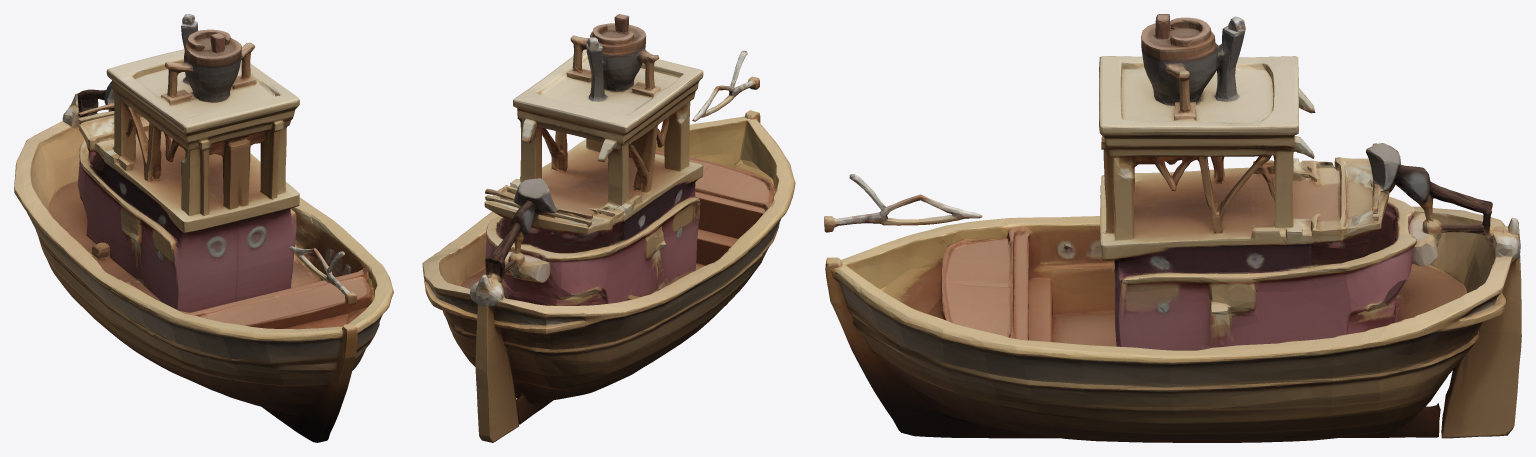
The model's file is ship.glb.
The picture shows the model from 3 angles, left to right: view 1: azimuth 30°, elevation 25°; view 2: azimuth 150°, elevation 25°; view 3: azimuth 270°, elevation 25°; orthographic projection. The views are drawn at different scales.
Visible parts, largest first — view 1: world; view 2: world; view 3: world.
Part boxes in pixels (box(x1,y1,x2,y2)): world: box(14, 14, 393, 442); world: box(422, 14, 795, 442); world: box(824, 14, 1521, 442).
Size of the model in its own units: 0.4922 by 0.6623 by 1.
Materials: 1 (1 with a texture image).
